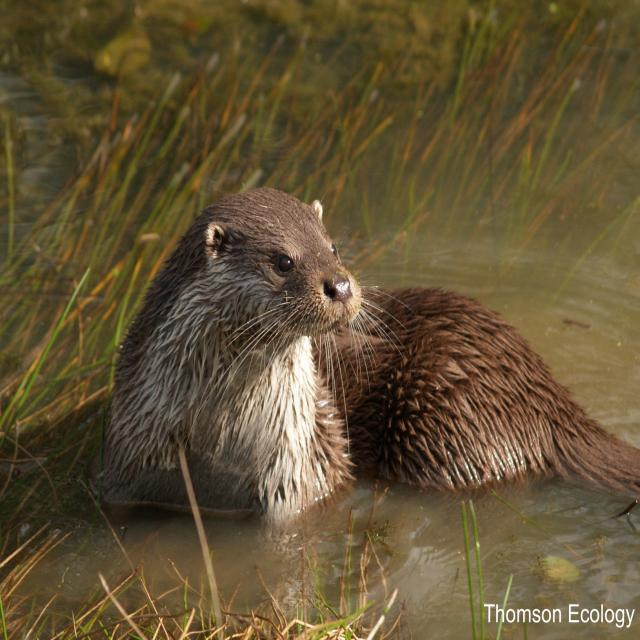otter: (115, 187, 640, 502)
